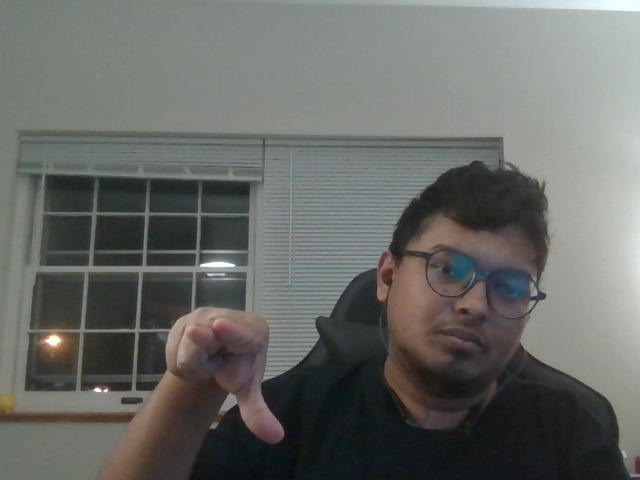no: (140, 295, 295, 453)
